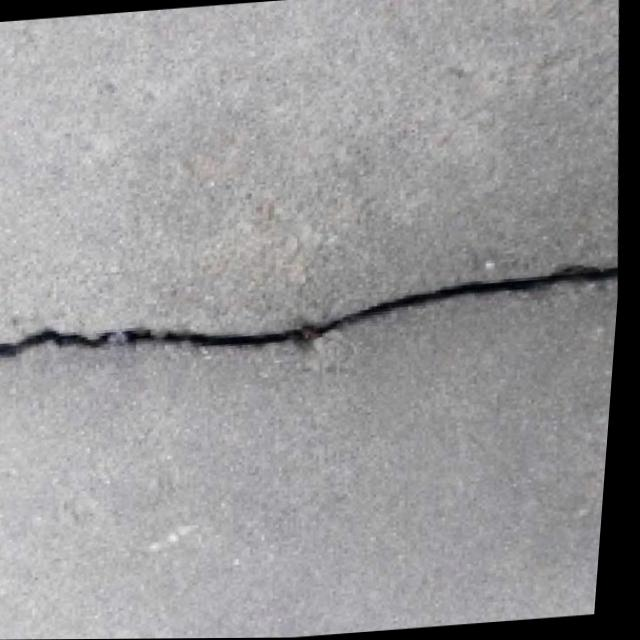Crack: (0, 246, 625, 392)
